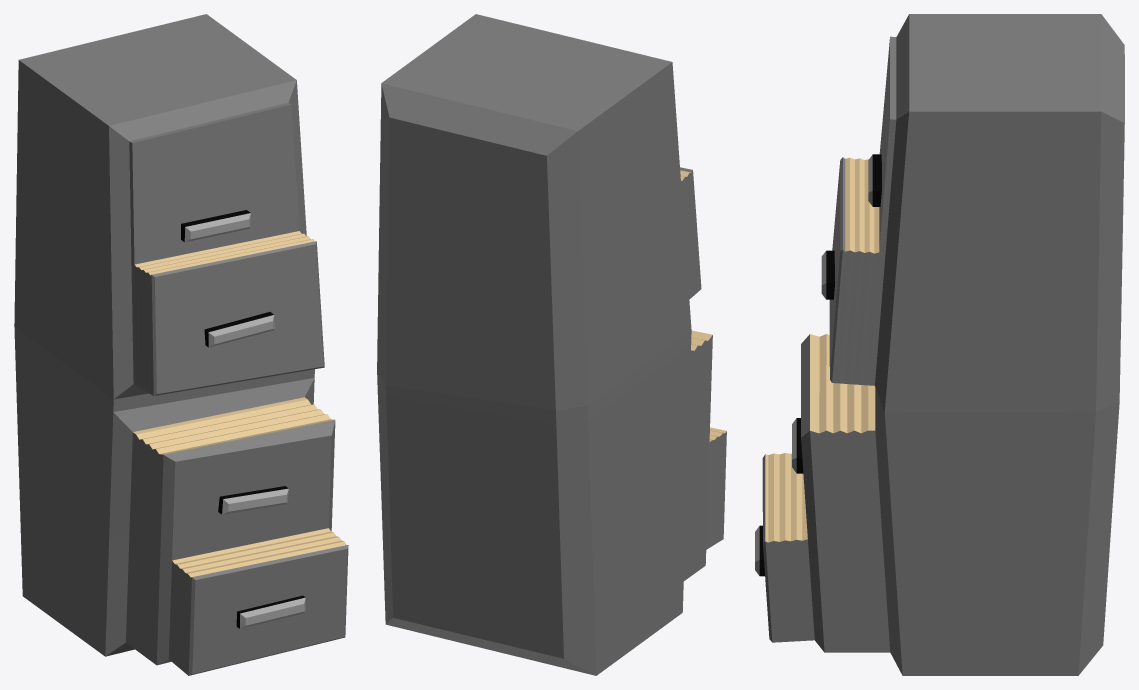
Rendered from SM_Box_office1.fbx.
3 views of the same model, side by side, from view 1: azimuth 30°, elevation 25°; view 2: azimuth 150°, elevation 25°; view 3: azimuth 270°, elevation 25° (orthographic). The views are drawn at different scales.
Parts seen in each view (by area): view 1: pCube6; view 2: pCube6; view 3: pCube6.
Part boxes in pixels (x1,y1,x2,y2): pCube6: (14,14,348,675); pCube6: (377,14,726,675); pCube6: (755,14,1124,675).
Size of the model in its own units: 0.6941 by 1.74 by 1.04.
